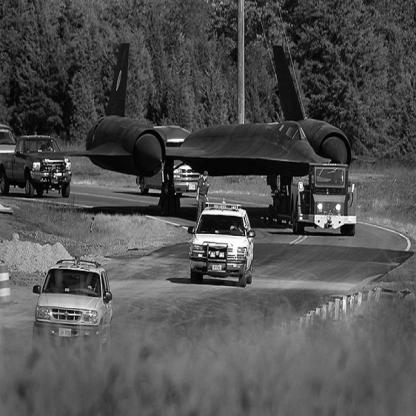SR71: (20, 43, 386, 225)
